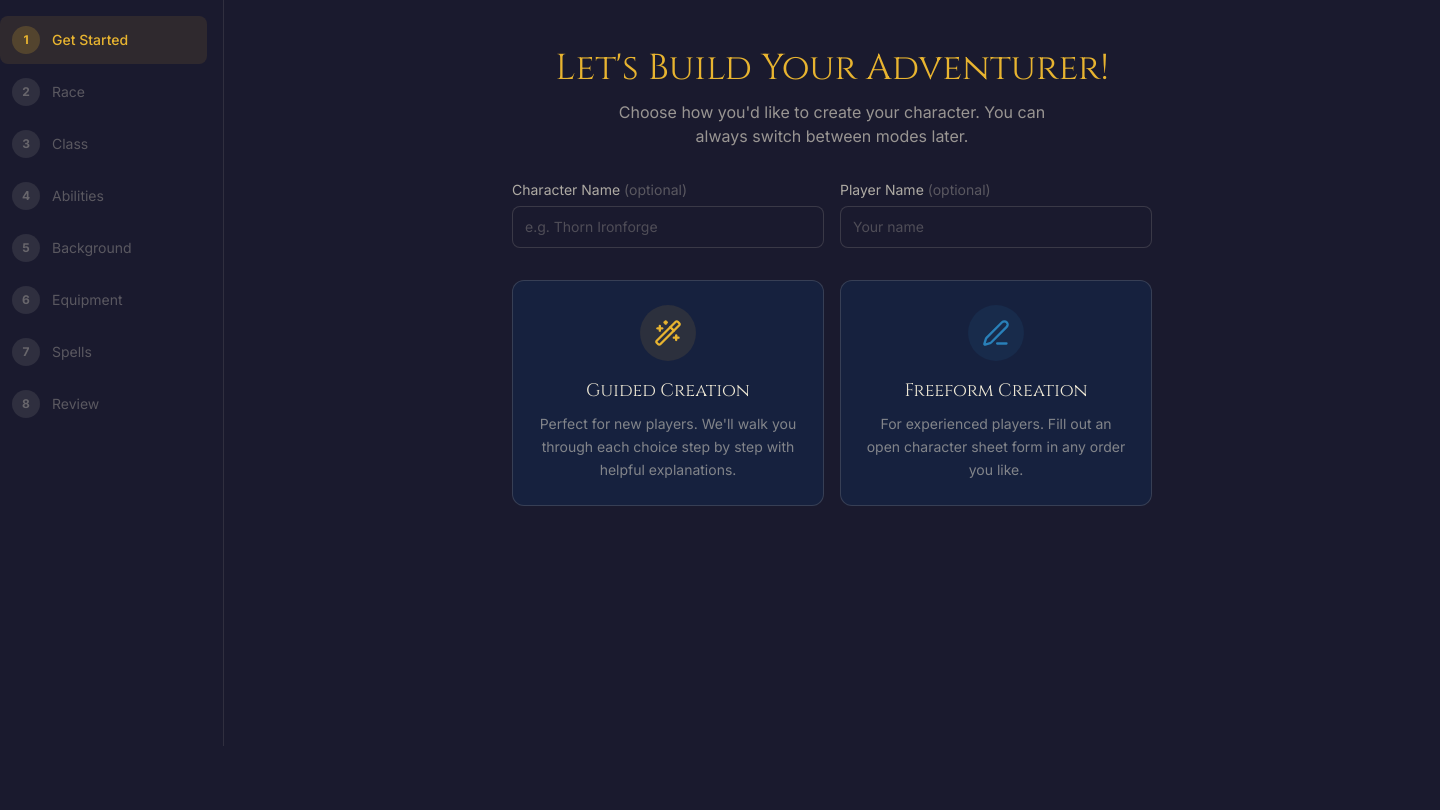
Scenario: CreationWizard › switches back to guided mode from freeform
This screenshot has width=1440, height=810.
// Switch to freeform
Click the heading "Freeform Creation": (996, 391) [904, 377, 1088, 405]
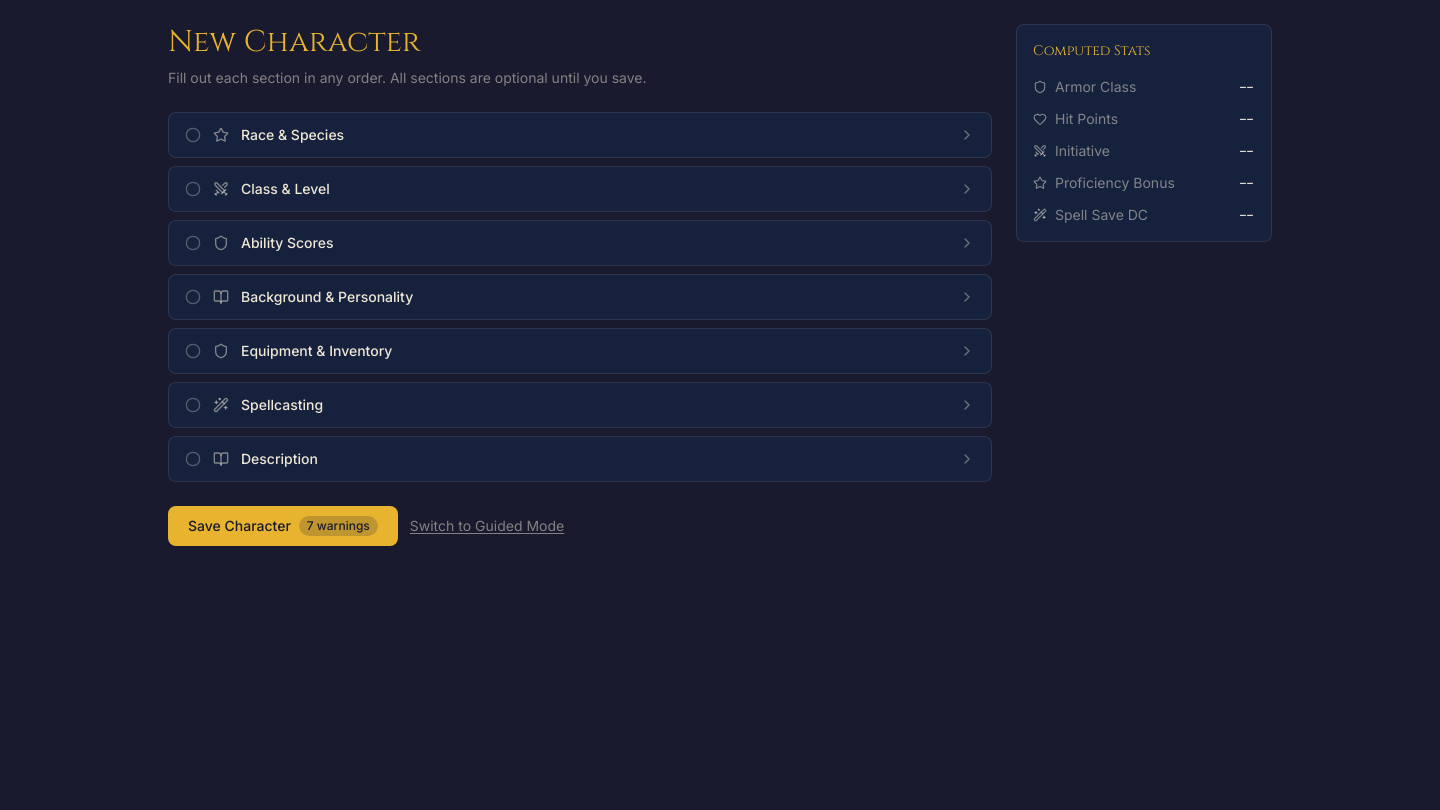
Result: the text "Race & Species" is shown at [241, 126, 344, 143]
// Switch back to guided
Click the button "Switch to Guided Mode": (487, 526) [410, 516, 564, 536]
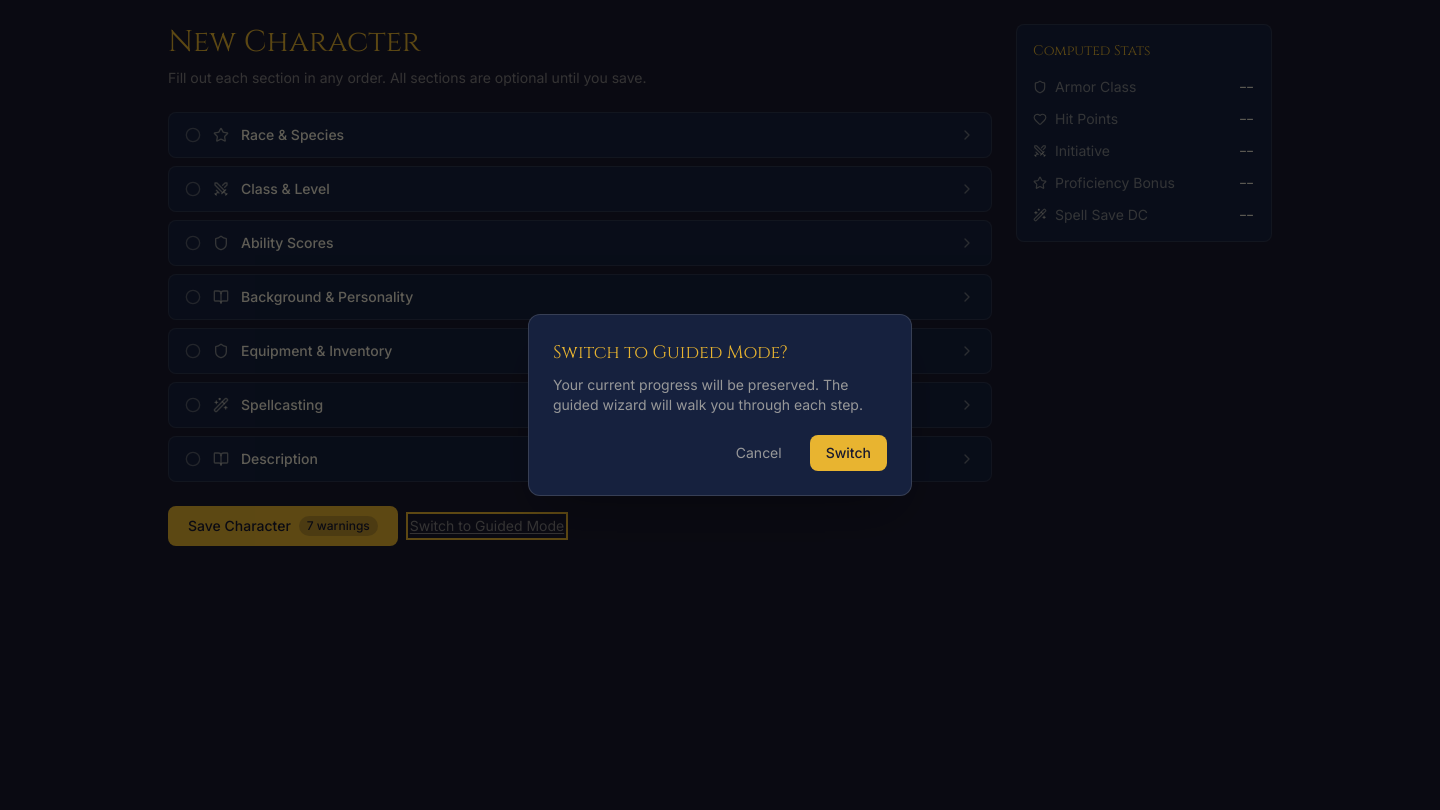
Click the button "Switch": (848, 453) [810, 435, 887, 471]
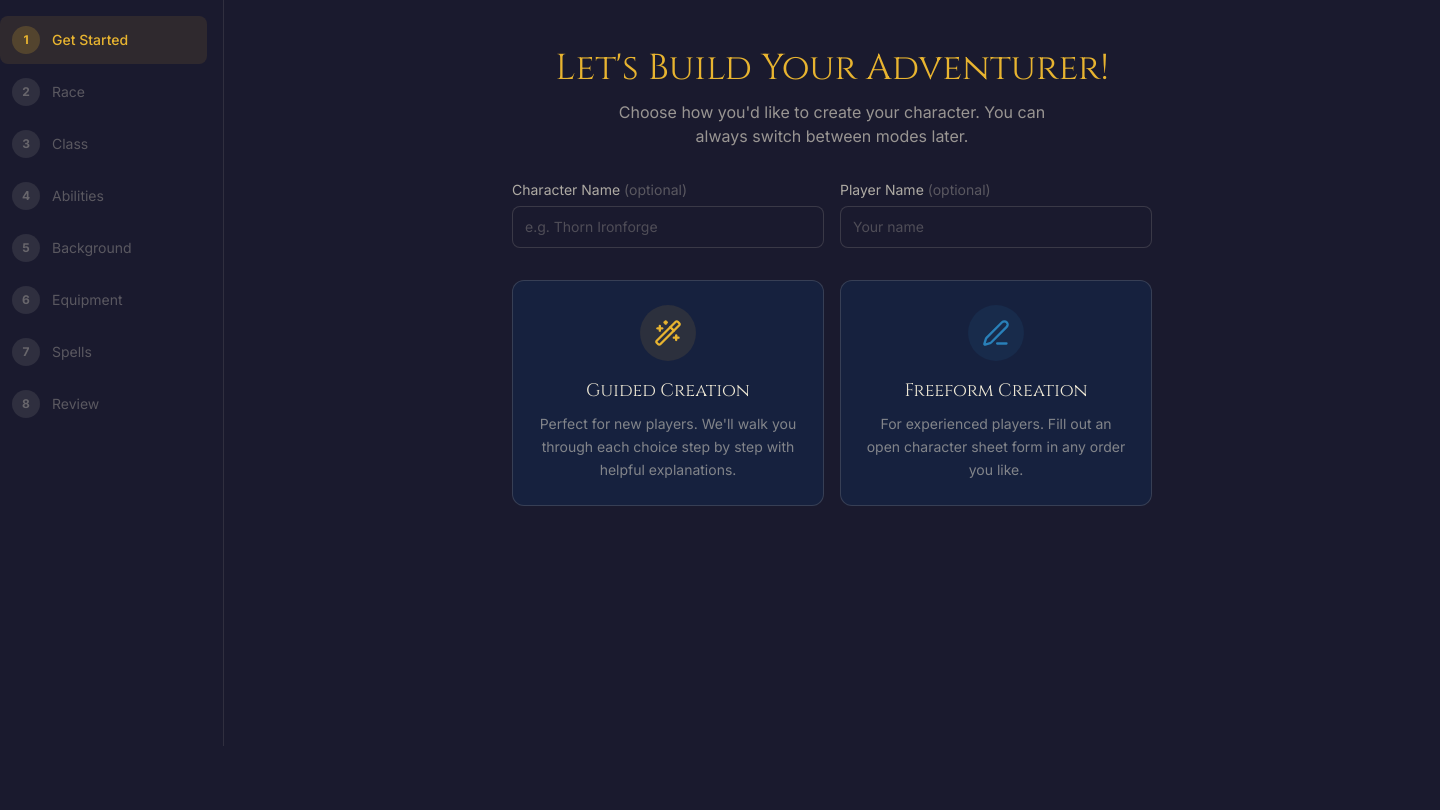
Result: the heading "Let's Build Your Adventurer!" is shown at [555, 48, 1109, 88]
